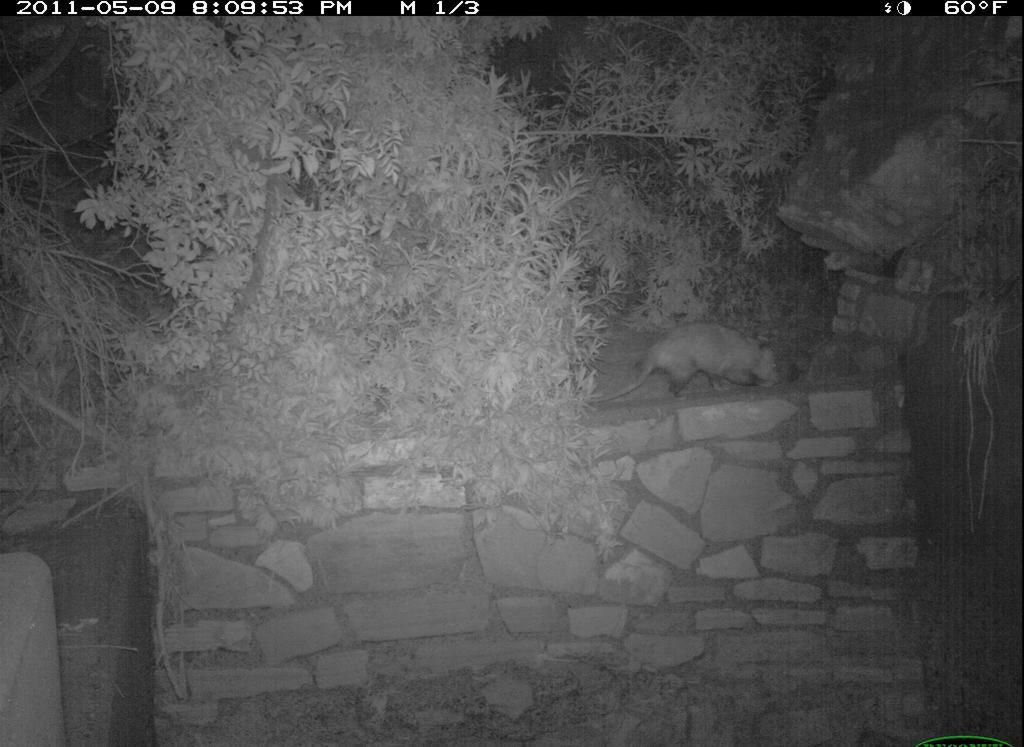opossum: (589, 308, 821, 413)
